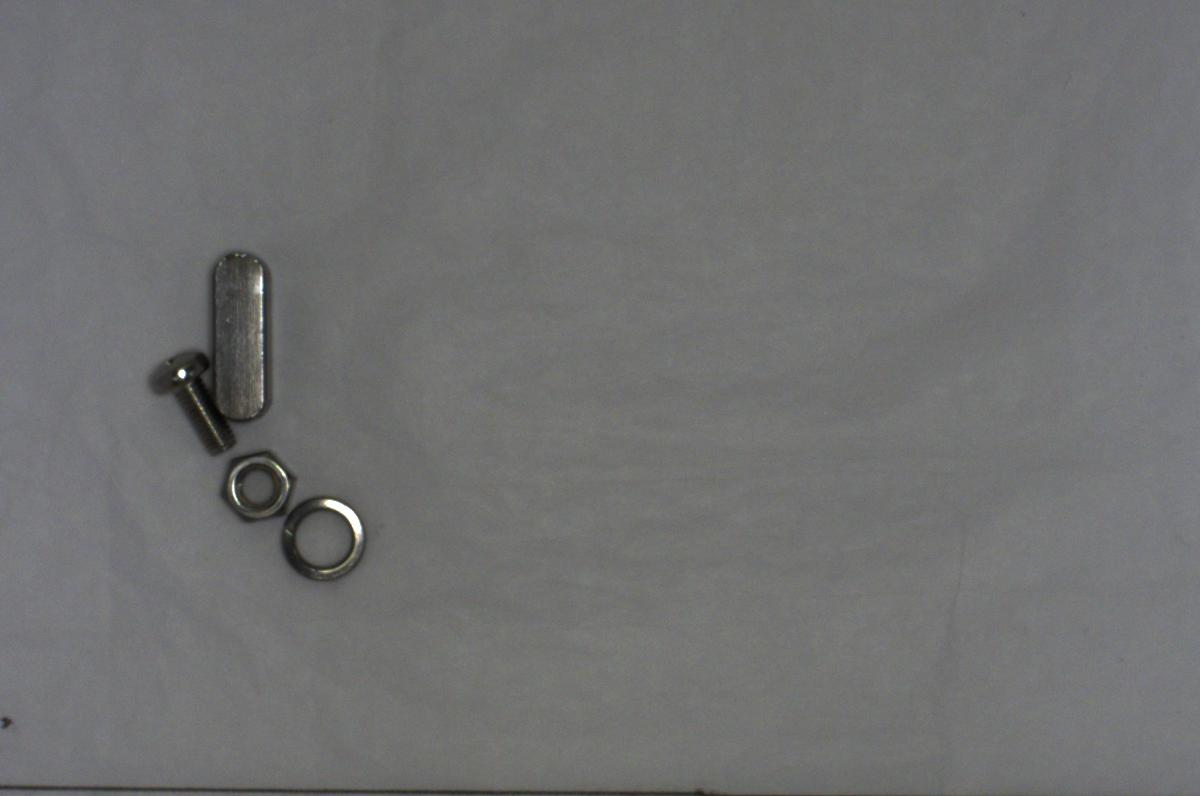Hexagon nut: (215, 448, 293, 525)
Keybar: (199, 239, 274, 426)
Round head screw: (141, 340, 238, 458)
Spring washer: (273, 489, 380, 594)
